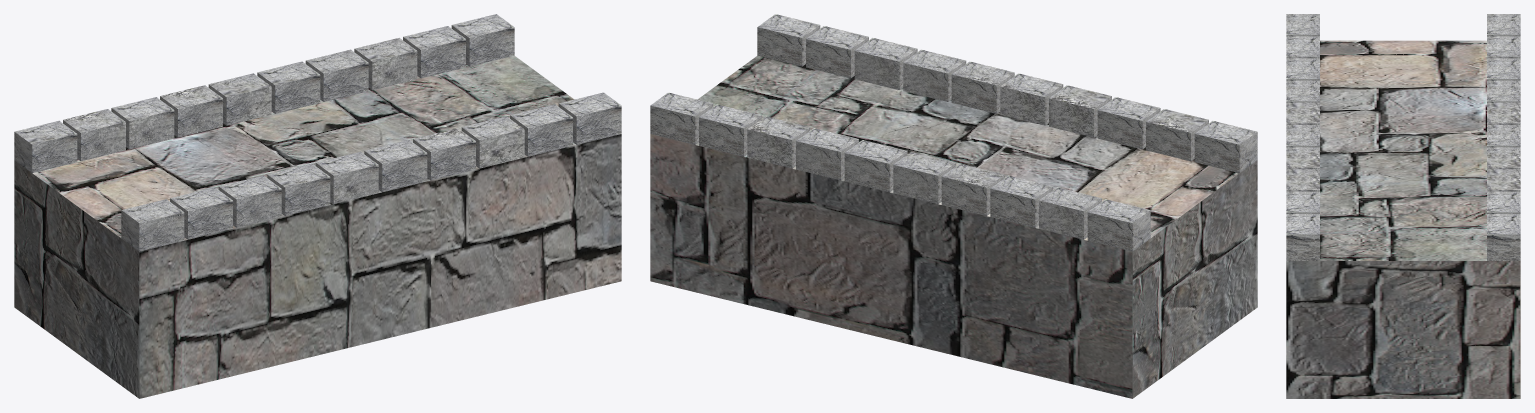
The model's file is castle_1.fbx.
3 renders of one model, left to right at view 1: azimuth 30°, elevation 25°; view 2: azimuth 150°, elevation 25°; view 3: azimuth 270°, elevation 25°, orthographic. The views are drawn at different scales.
Parts seen in each view (by area): view 1: Ground_1; view 2: Ground_1; view 3: Ground_1.
Part boxes in pixels (x1,y1,x2,y2): Ground_1: (14,14,621,398); Ground_1: (650,14,1257,398); Ground_1: (1286,14,1520,398).
Size of the model in its own units: 390 by 175 by 136.
Materials: 2 (2 with a texture image).
